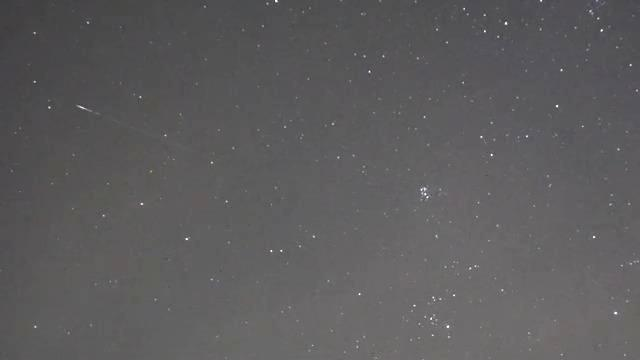meteorite: (68, 99, 153, 146)
